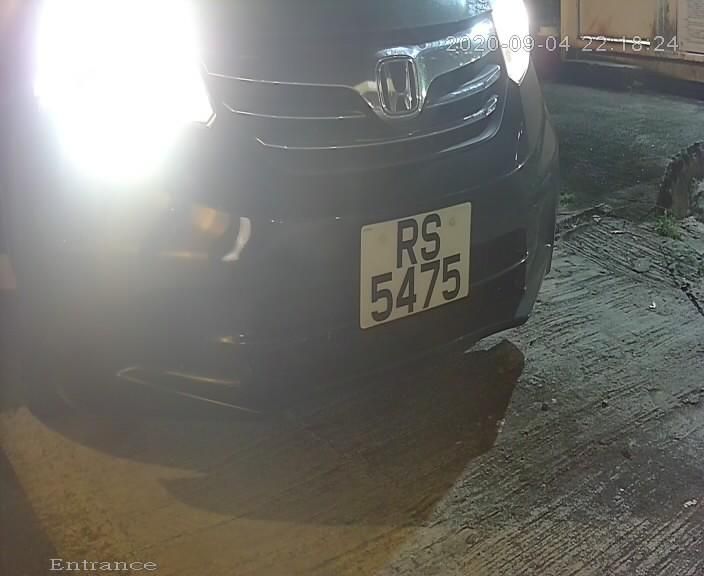License Plate: (353, 191, 475, 340)
